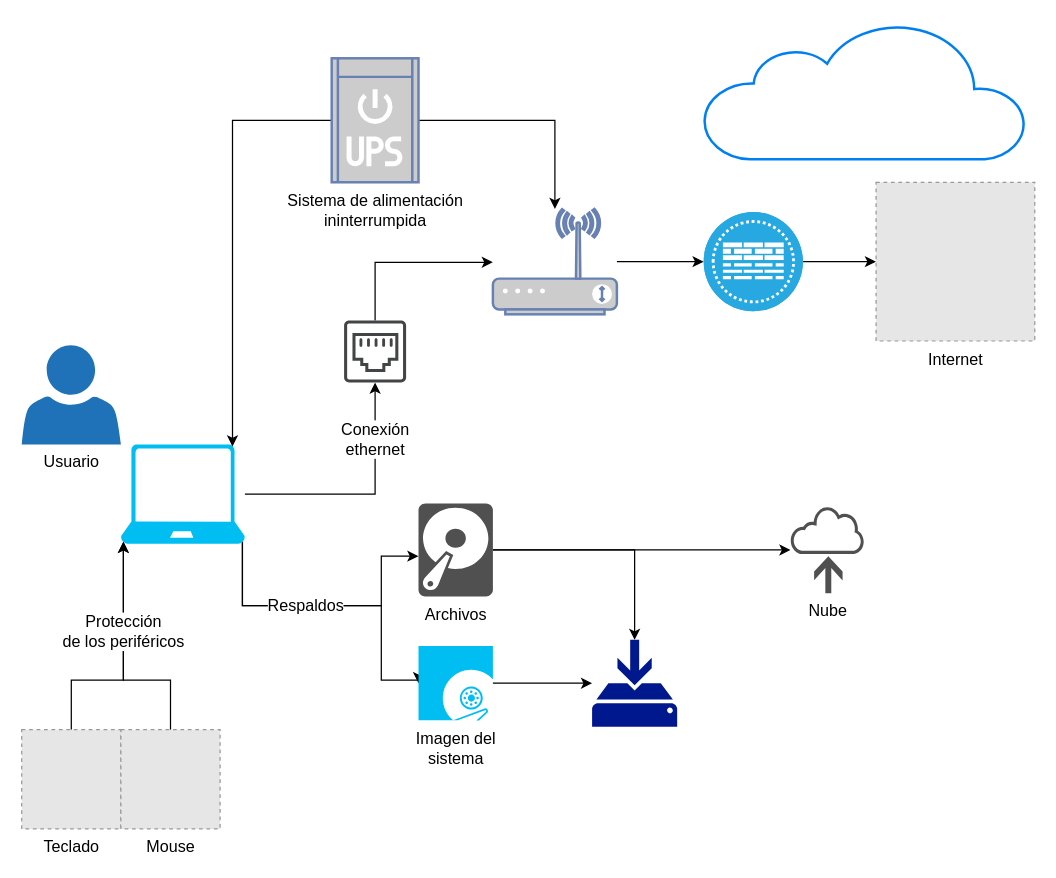
Some shapes in this 1056 by 878 pixel diagram are drawn without their labels. Grey dashed boxes stand in for pictures. Each missing label, with the box of its shape:
Disco duro externo: (591, 639, 677, 726)
Firewall: (702, 211, 803, 311)
Laptop: (120, 444, 244, 543)
Modem: (491, 207, 618, 315)
